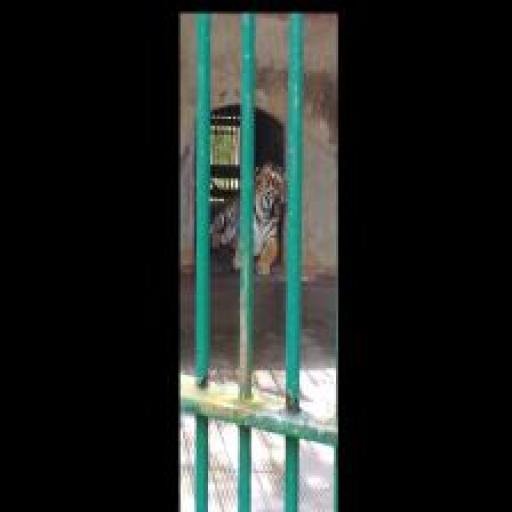Tiger: (210, 160, 288, 278)
